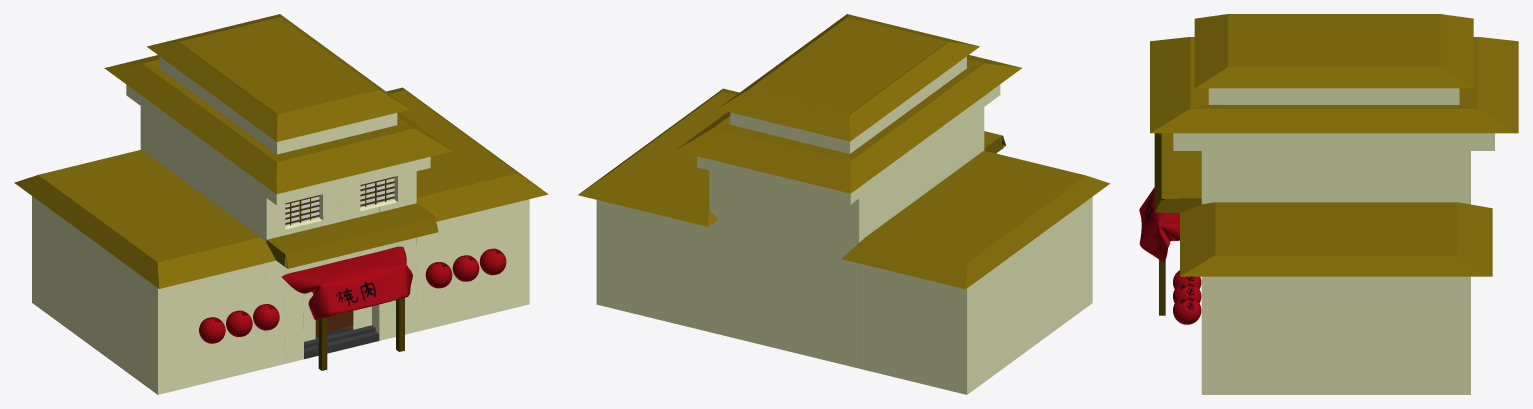
File: Edo_Building_01.fbx
The picture shows the model from 3 angles, left to right: view 1: azimuth 30°, elevation 25°; view 2: azimuth 150°, elevation 25°; view 3: azimuth 270°, elevation 25°; orthographic projection. The views are drawn at different scales.
Visible parts, largest first — view 1: Sphere.001; view 2: Sphere.001; view 3: Sphere.001.
Part boxes in pixels (left/top/right/bottom): Sphere.001: left=14, top=14, right=548, bottom=394; Sphere.001: left=578, top=14, right=1109, bottom=394; Sphere.001: left=1139, top=14, right=1518, bottom=394.
Size of the model in its own units: 3569 by 2095 by 2816.
